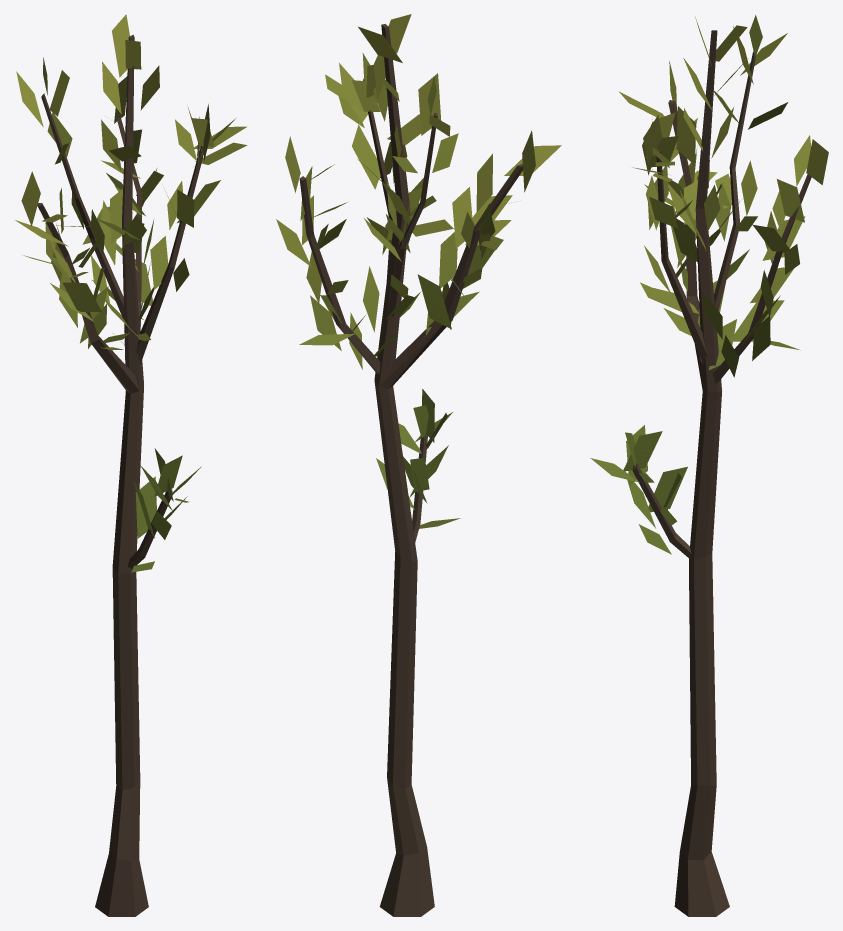
The model's file is zone1-stone5.glb.
3 views of the same model, side by side, from view 1: azimuth 30°, elevation 25°; view 2: azimuth 150°, elevation 25°; view 3: azimuth 270°, elevation 25° (orthographic). The views are drawn at different scales.
Parts seen in each view (by area): view 1: tree-willow-weeping-generic-sapling-a.001; view 2: tree-willow-weeping-generic-sapling-a.001; view 3: tree-willow-weeping-generic-sapling-a.001.
Part boxes in pixels (x1,y1,x2,y2): tree-willow-weeping-generic-sapling-a.001: (15, 14, 247, 916); tree-willow-weeping-generic-sapling-a.001: (276, 14, 561, 916); tree-willow-weeping-generic-sapling-a.001: (590, 15, 828, 916).
Size of the model in its own units: 1.95 by 7.5 by 1.82.
Materials: 2 (1 with a texture image).
